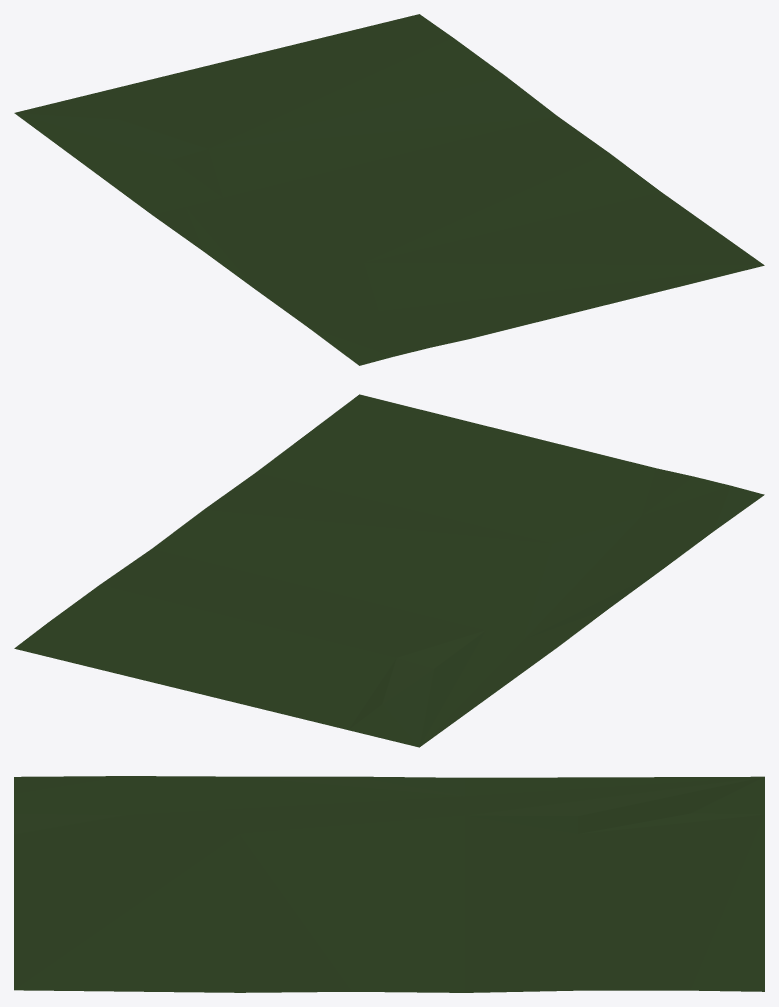
Rendered from grass_terrain.FBX.
3 renders of one model, top to bottom at view 1: azimuth 30°, elevation 25°; view 2: azimuth 150°, elevation 25°; view 3: azimuth 270°, elevation 25°, orthographic. The views are drawn at different scales.
Parts seen in each view (by area): view 1: grass_terrain; view 2: grass_terrain; view 3: grass_terrain.
Part boxes in pixels (left/top/right/bottom): grass_terrain: left=14, top=14, right=764, bottom=365; grass_terrain: left=14, top=394, right=764, bottom=747; grass_terrain: left=14, top=776, right=764, bottom=992.
Size of the model in its own units: 380 by 2.52 by 561.
